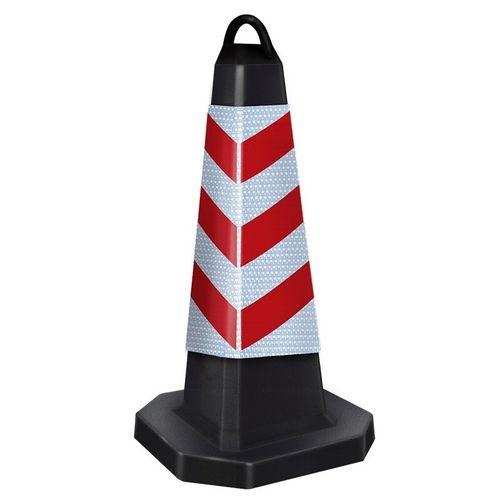cone_barrel: (145, 14, 354, 468)
